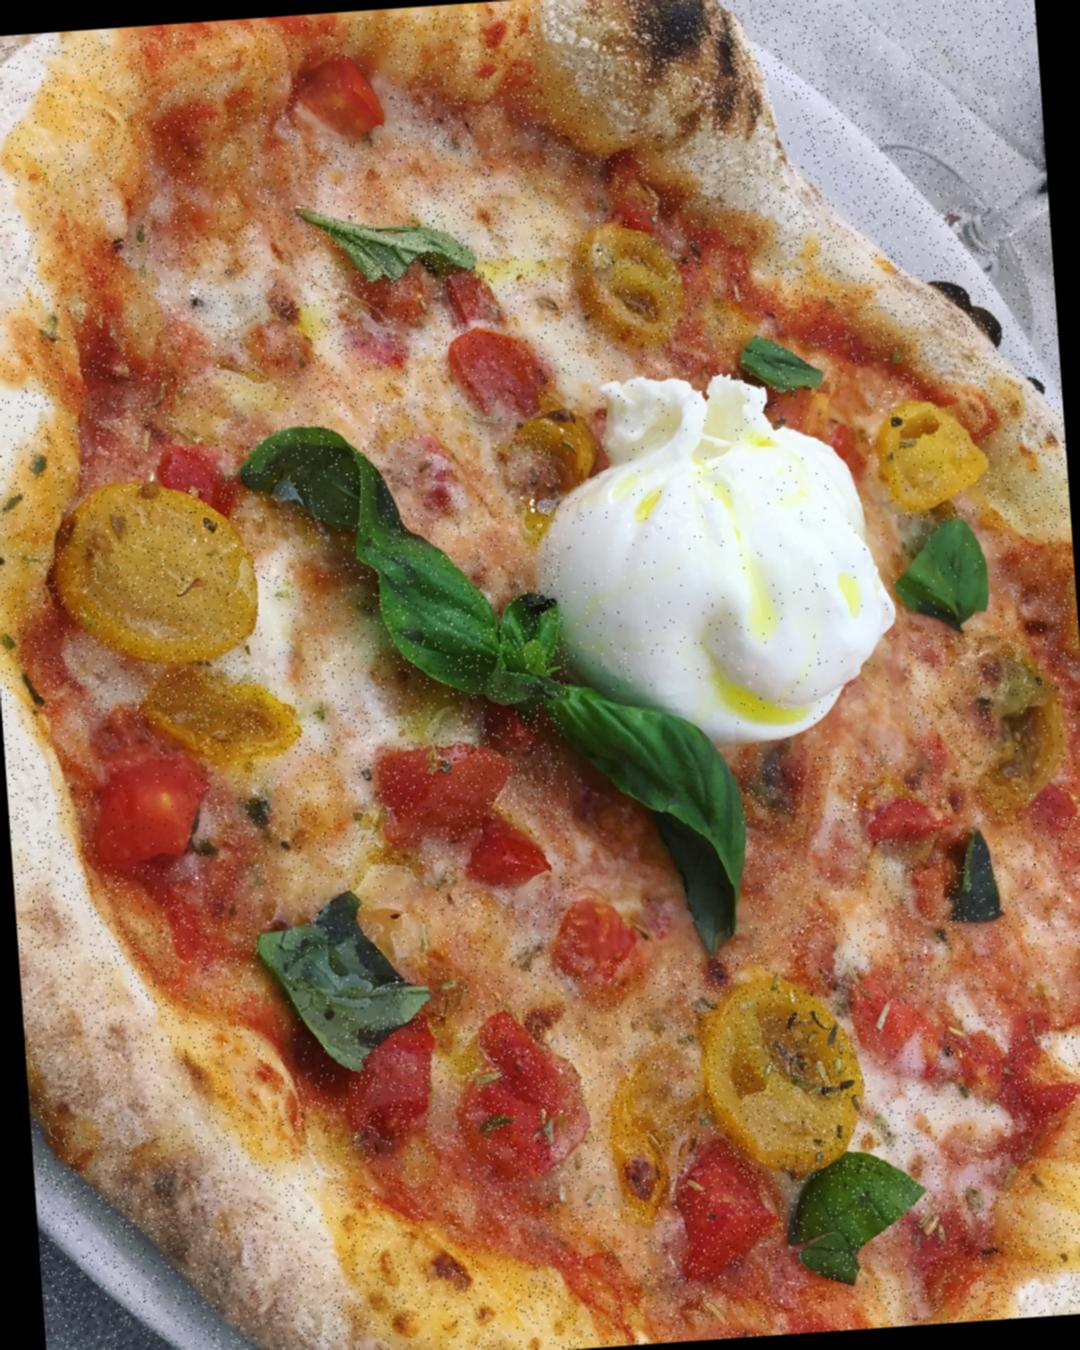Basil: (248, 402, 559, 727), (562, 683, 749, 962), (253, 872, 447, 1078), (784, 1151, 918, 1295), (305, 197, 484, 289), (897, 516, 1000, 635), (944, 819, 1015, 931), (739, 324, 829, 404)
Cheese: (547, 361, 912, 773)
Pizza: (0, 0, 1080, 1350)
Tomatoes: (50, 458, 276, 685), (696, 964, 873, 1185), (464, 1003, 591, 1173), (140, 654, 311, 776), (566, 209, 696, 357), (89, 721, 207, 872), (374, 734, 517, 834), (345, 1016, 449, 1146), (884, 390, 985, 514), (678, 1144, 767, 1282), (447, 314, 552, 413), (298, 57, 396, 144), (993, 691, 1063, 797), (461, 822, 558, 897)
